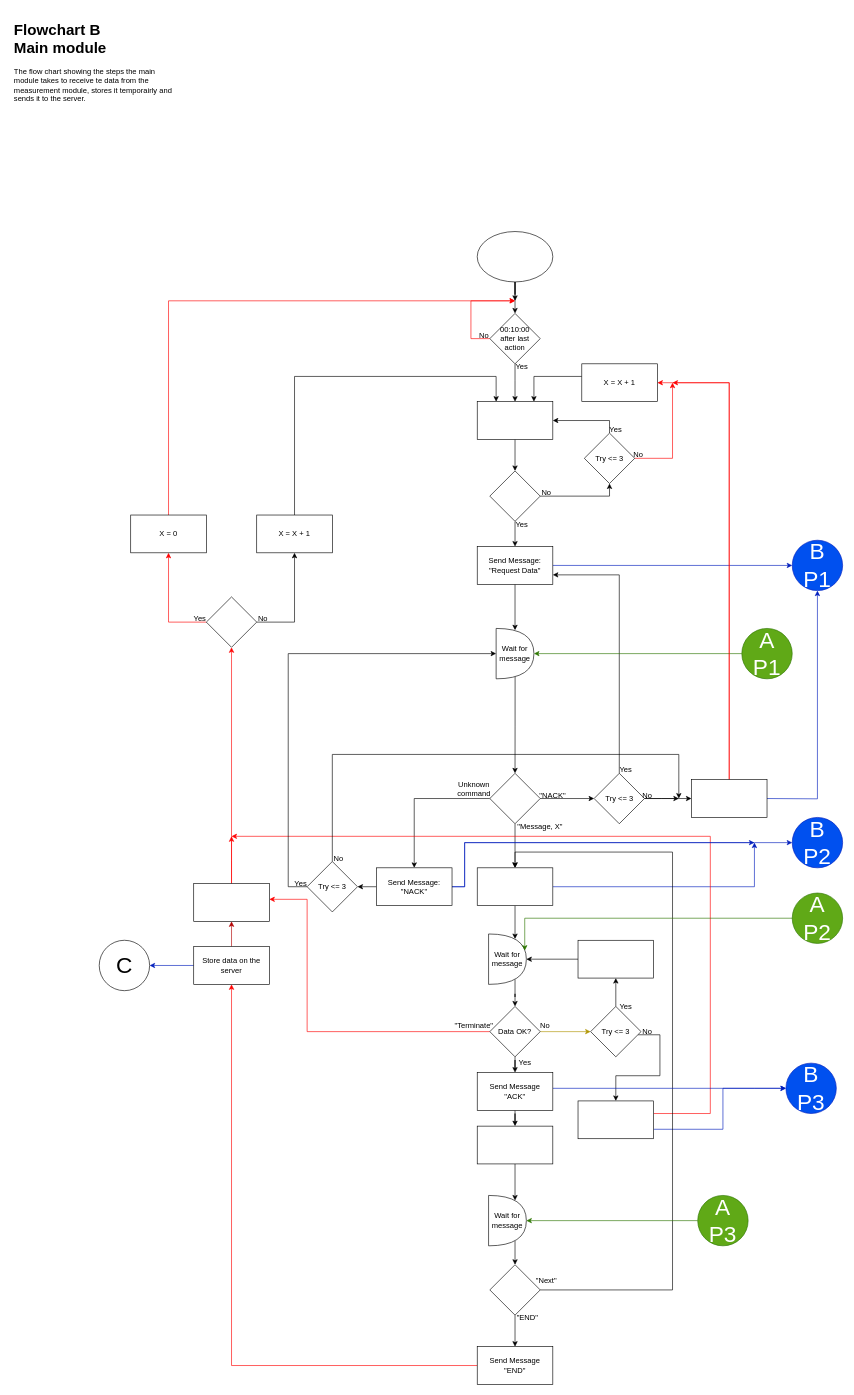
This 854x1395 diagram has some shape labels left out. Here are the shapes that lost their labels. From the top down, the box of each, then its label:
(477, 231, 553, 282): START
(477, 401, 553, 439): connect to sensor X
(489, 470, 540, 521): Connected
(206, 596, 257, 647): All sensors
(489, 773, 540, 824): message
(691, 779, 767, 817): Send Message: "Terminate"
(193, 883, 269, 921): Close Connection
(477, 867, 553, 906): Send Message: "ACK"
(577, 940, 654, 978): Send Message "NACK"
(577, 1100, 654, 1139): Send Message "Terminate"
(477, 1125, 553, 1164): Save Data
(489, 1264, 540, 1315): All data received
